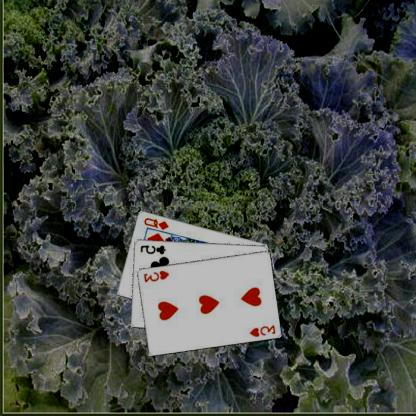3H: (249, 322, 278, 338), (142, 268, 172, 283)
5C: (140, 242, 168, 256)
QD: (143, 214, 172, 231)
